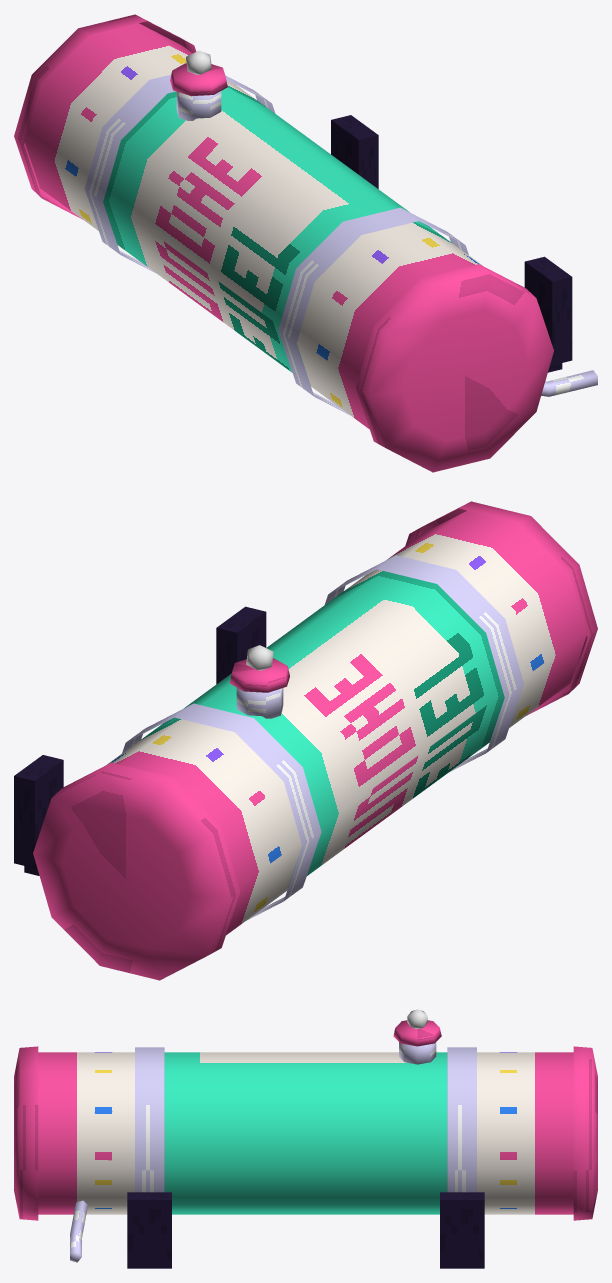
File: Upgrade Sundae Tank.fbx
3 views of the same model, one above another, from view 1: azimuth 30°, elevation 25°; view 2: azimuth 150°, elevation 25°; view 3: azimuth 270°, elevation 25° (orthographic). The views are drawn at different scales.
Parts seen in each view (by area): view 1: Upgrade Sundae Tank tank body, Upgrade Sundae Tank tank lid -1, Upgrade Sundae Tank tank strap -1, Upgrade Sundae Tank tank strap 1, Upgrade Sundae Tank tank lid 1, Upgrade Sundae Tank tank saddle upright -1, Upgrade Sundae Tank tank saddle upright 1, Upgrade Sundae Tank tank fill cap, Upgrade Sundae Tank tank filler neck, Upgrade Sundae Tank tank fuel line; view 2: Upgrade Sundae Tank tank body, Upgrade Sundae Tank tank lid 1, Upgrade Sundae Tank tank strap 1, Upgrade Sundae Tank tank strap -1, Upgrade Sundae Tank tank lid -1, Upgrade Sundae Tank tank saddle upright 1, Upgrade Sundae Tank tank saddle upright -1, Upgrade Sundae Tank tank fill cap, Upgrade Sundae Tank tank filler neck; view 3: Upgrade Sundae Tank tank body, Upgrade Sundae Tank tank strap -1, Upgrade Sundae Tank tank strap 1, Upgrade Sundae Tank tank lid -1, Upgrade Sundae Tank tank lid 1, Upgrade Sundae Tank tank saddle upright -1, Upgrade Sundae Tank tank saddle upright 1, Upgrade Sundae Tank tank fill cap, Upgrade Sundae Tank tank fuel line, Upgrade Sundae Tank tank filler neck.
Part boxes in pixels (box(x1,y1,x2,y2)): Upgrade Sundae Tank tank body: box(24, 23, 483, 428); Upgrade Sundae Tank tank lid -1: box(356, 264, 553, 472); Upgrade Sundae Tank tank strap -1: box(278, 207, 468, 414); Upgrade Sundae Tank tank strap 1: box(84, 74, 275, 272); Upgrade Sundae Tank tank lid 1: box(14, 14, 196, 219); Upgrade Sundae Tank tank saddle upright -1: box(524, 256, 572, 365); Upgrade Sundae Tank tank saddle upright 1: box(331, 115, 378, 188); Upgrade Sundae Tank tank fill cap: box(170, 63, 227, 96); Upgrade Sundae Tank tank filler neck: box(176, 91, 221, 120); Upgrade Sundae Tank tank fuel line: box(541, 370, 597, 396); Upgrade Sundae Tank tank body: box(107, 510, 586, 935); Upgrade Sundae Tank tank lid 1: box(33, 762, 240, 980); Upgrade Sundae Tank tank strap 1: box(122, 703, 321, 920); Upgrade Sundae Tank tank strap -1: box(324, 555, 523, 771); Upgrade Sundae Tank tank lid -1: box(405, 501, 597, 715); Upgrade Sundae Tank tank saddle upright 1: box(14, 755, 63, 867); Upgrade Sundae Tank tank saddle upright -1: box(216, 606, 266, 684); Upgrade Sundae Tank tank fill cap: box(229, 658, 289, 692); Upgrade Sundae Tank tank filler neck: box(236, 687, 283, 718); Upgrade Sundae Tank tank body: box(38, 1052, 573, 1214); Upgrade Sundae Tank tank strap -1: box(135, 1047, 164, 1192); Upgrade Sundae Tank tank strap 1: box(447, 1047, 476, 1192); Upgrade Sundae Tank tank lid -1: box(14, 1046, 38, 1220); Upgrade Sundae Tank tank lid 1: box(573, 1046, 597, 1220); Upgrade Sundae Tank tank saddle upright -1: box(127, 1192, 171, 1267); Upgrade Sundae Tank tank saddle upright 1: box(440, 1192, 484, 1267); Upgrade Sundae Tank tank fill cap: box(393, 1020, 441, 1046); Upgrade Sundae Tank tank fuel line: box(70, 1200, 87, 1262); Upgrade Sundae Tank tank filler neck: box(399, 1042, 436, 1064).
Size of the model in its own units: 0.681 by 0.5744 by 1.57.
5 materials, 4 textured.
